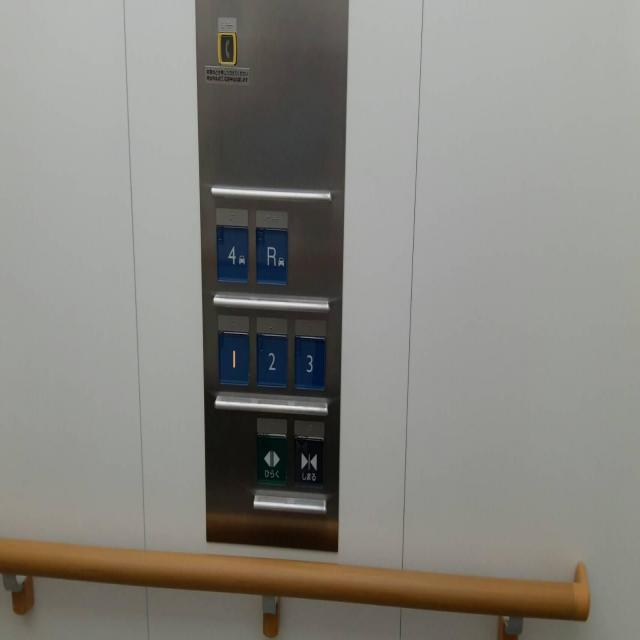1: (218, 330, 250, 387)
2: (255, 331, 288, 388)
3: (294, 334, 325, 391)
4: (215, 226, 249, 284)
R: (254, 226, 288, 286)
call: (216, 31, 237, 67)
close: (293, 434, 324, 488)
open: (256, 432, 287, 486)
